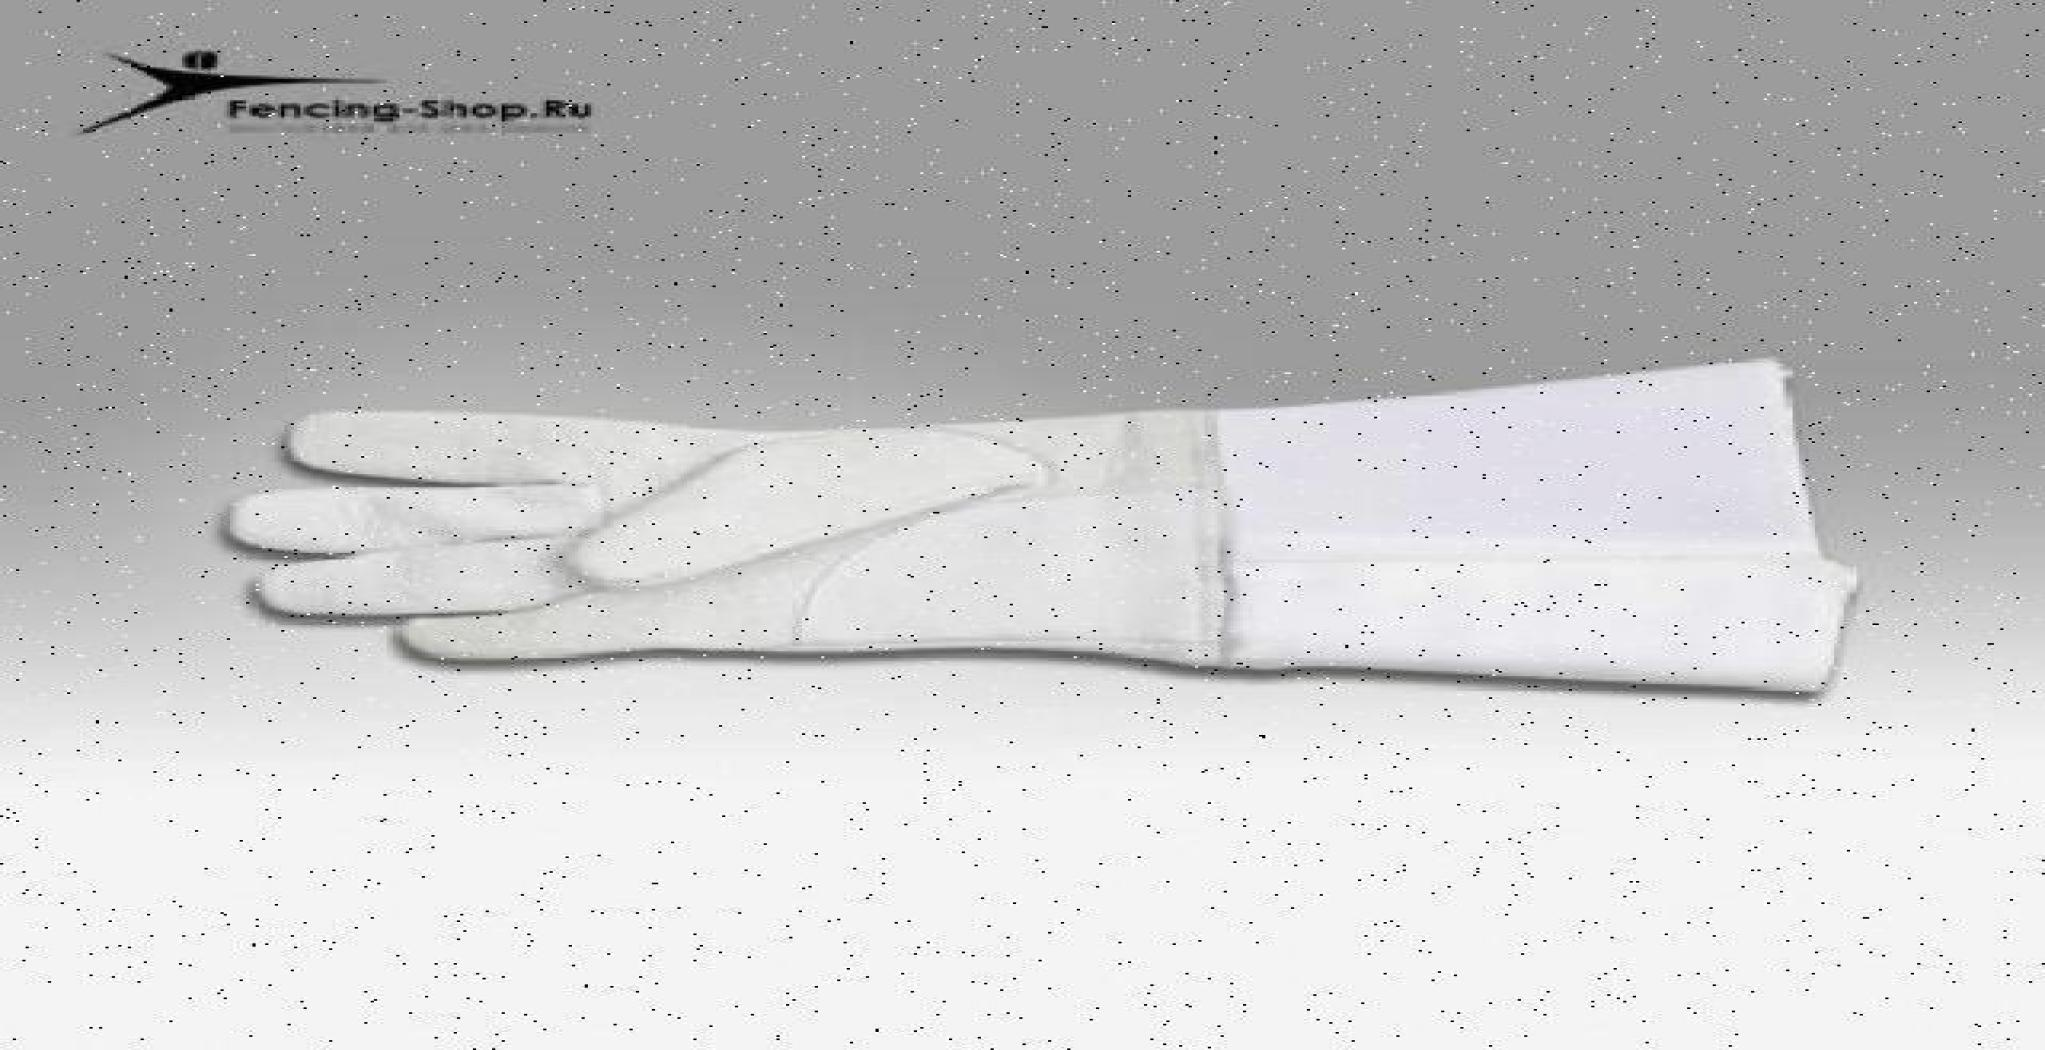gloved: (224, 356, 1859, 696)
